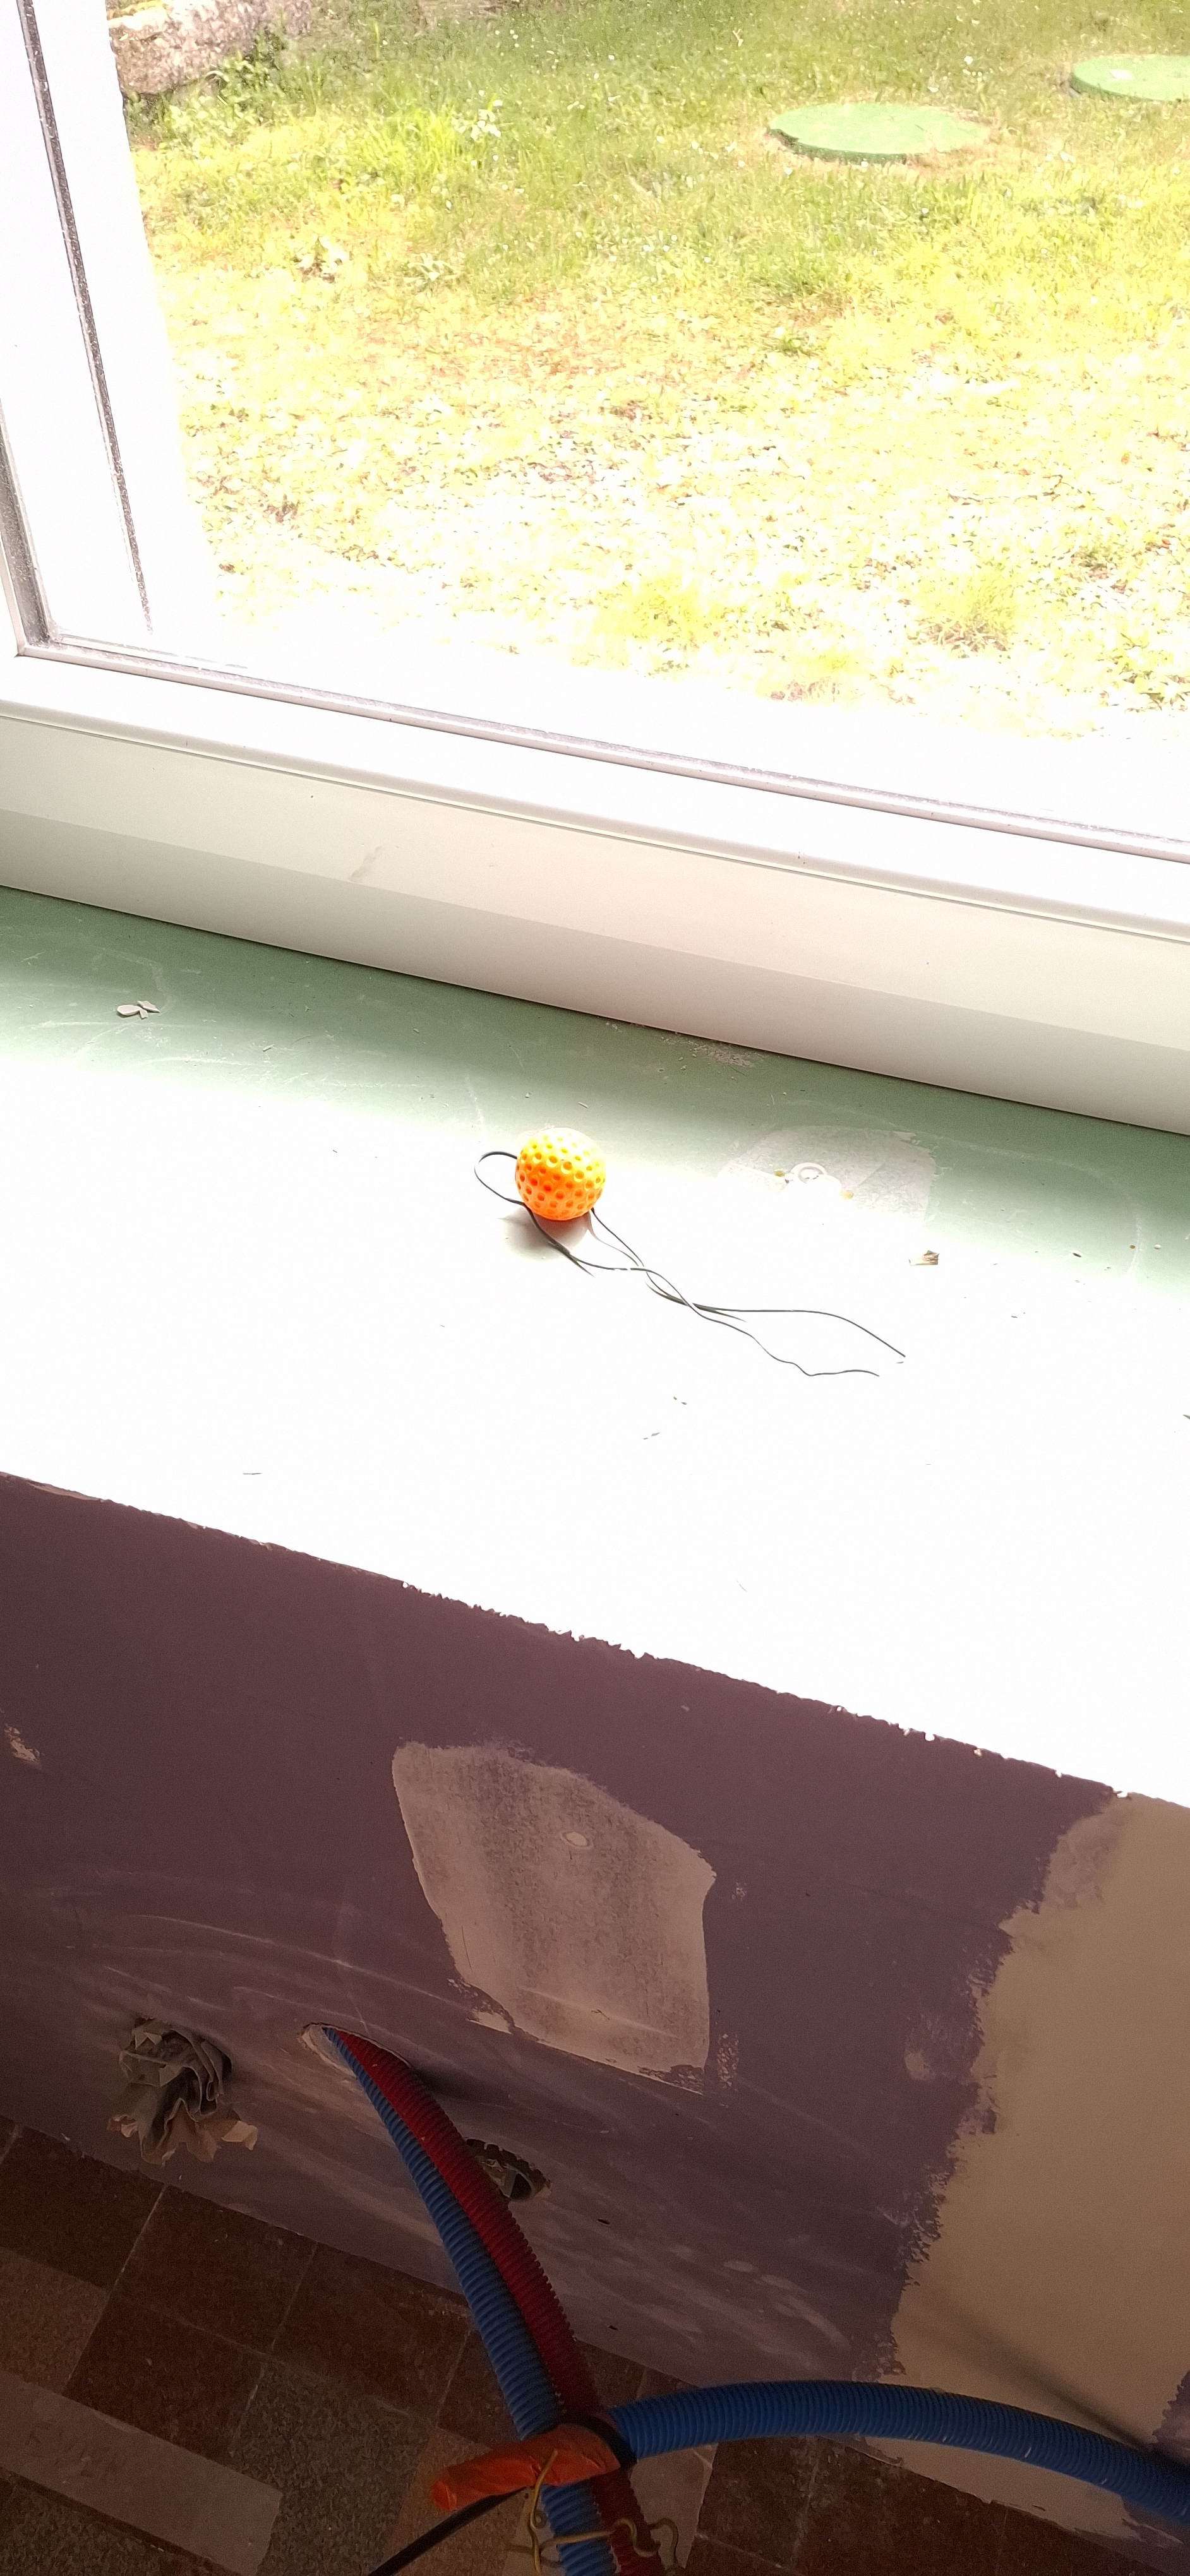ball: (519, 1263, 565, 1462)
